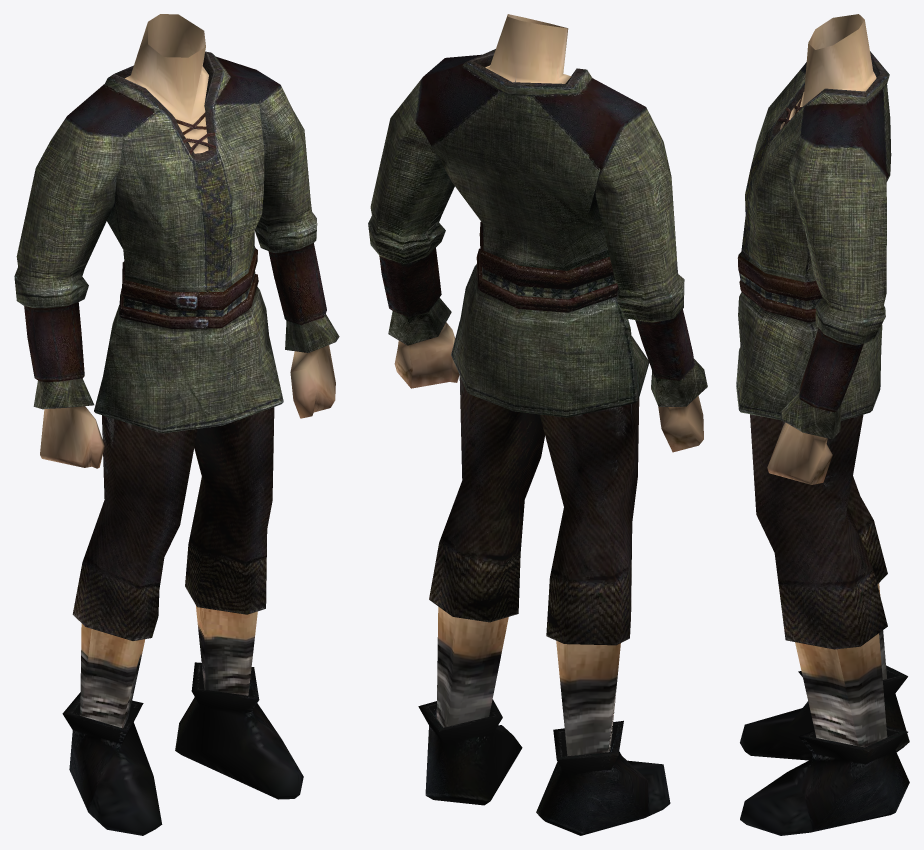
The model's file is GS_SLAV_VLK_01_KOZA.glb.
3 views of the same model, side by side, from view 1: azimuth 30°, elevation 25°; view 2: azimuth 150°, elevation 25°; view 3: azimuth 270°, elevation 25° (orthographic). The views are drawn at different scales.
Parts seen in each view (by area): view 1: GS_SLAV_VLK_01_KOZA; view 2: GS_SLAV_VLK_01_KOZA; view 3: GS_SLAV_VLK_01_KOZA.
Boxes of the visible parts, bbox=[...] form: GS_SLAV_VLK_01_KOZA: bbox=[14, 14, 339, 835]; GS_SLAV_VLK_01_KOZA: bbox=[368, 14, 707, 835]; GS_SLAV_VLK_01_KOZA: bbox=[736, 14, 909, 835].
Size of the model in its own units: 0.6903 by 1.69 by 0.346.
Materials: 2 (2 with a texture image).
